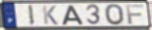3: (85, 3, 103, 26)
A: (61, 5, 85, 26)
F: (125, 4, 146, 26)
I: (27, 4, 36, 27)
K: (41, 5, 59, 26)
O: (104, 3, 126, 26)
